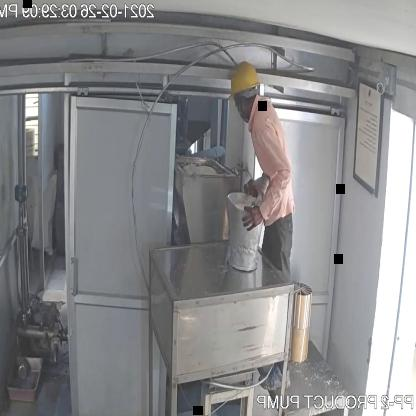helmet: (228, 57, 263, 106)
